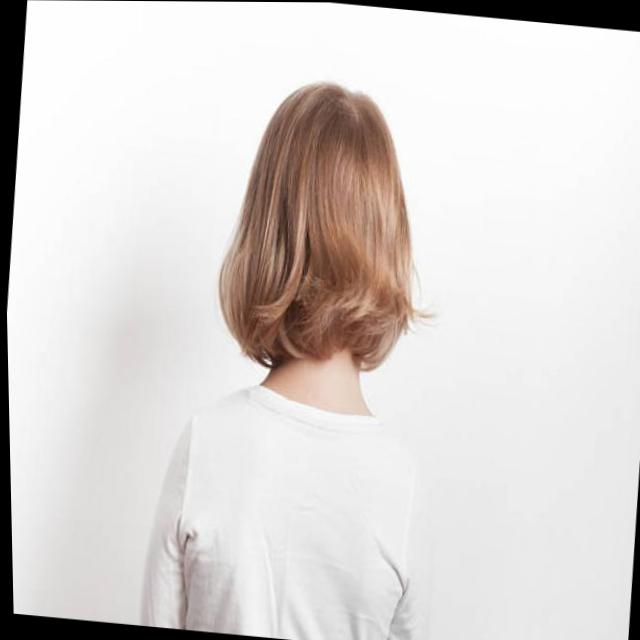no helmet: (204, 74, 437, 378)
